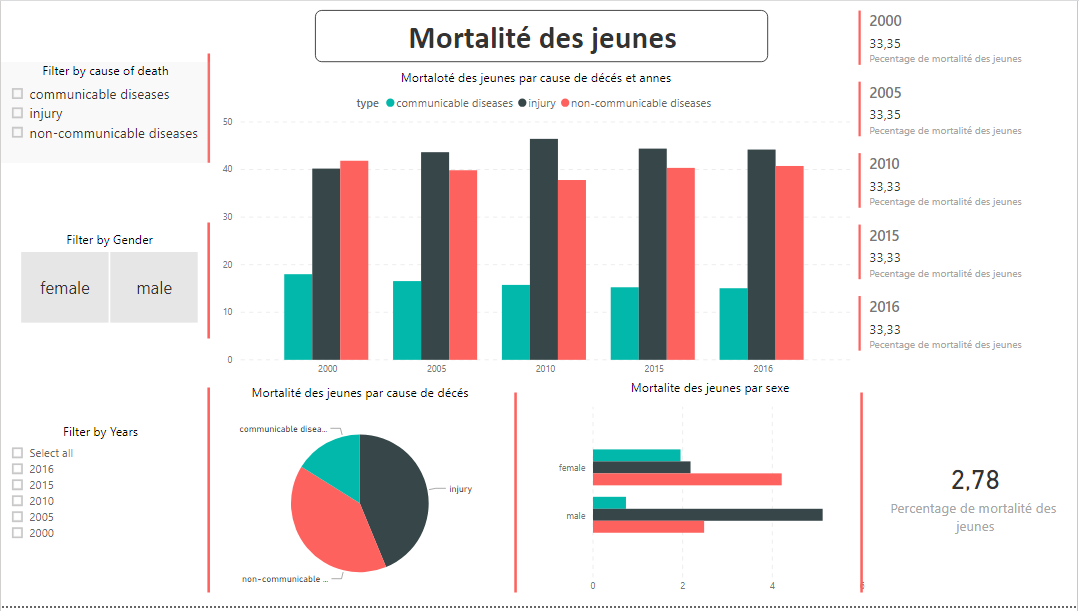

What the dashboard file says about the page in this screenshot:
{"tool":"powerbi","page":{"name":"Mortalité des jeunes","canvas":[1280,720],"ordinal":7},"visuals":[{"type":"basicShape","box":[236.7,52.3,21.4,149.9],"z":0},{"type":"slicer","title":"Filter by cause of death","fields":{"Values":["mydb mortalite.type"]},"box":[0,72.6,248.6,120.1],"z":1000},{"type":"basicShape","box":[235.5,253.4,22.6,158.2],"z":2000},{"type":"slicer","title":"Filter by Gender","fields":{"Values":["mydb gender.type"]},"box":[0,273.6,258.1,114.2],"z":3000},{"type":"basicShape","box":[235.5,449.7,22.6,264.1],"z":4000},{"type":"slicer","title":"Filter by Years","fields":{"Values":["mydb temps.year"]},"box":[0,502,236.7,148.7],"z":5000},{"type":"textbox","box":[373.2,10.5,539.4,62],"z":6000},{"type":"clusteredColumnChart","title":"Mortaloté des jeunes par cause de décés et annes","fields":{"Category":["mydb temps.year"],"Y":["Avg(mydb yoth_mortality.mortalite_ration)"],"Series":["mydb mortalite.type"]},"box":[258.1,80.9,756.6,374.7],"z":7000},{"type":"multiRowCard","fields":{"Values":["mydb temps.year","Avg(mydb yoth_mortality.mortalite_ration)"]},"box":[1014.7,5.9,265.3,449.7],"z":8000},{"type":"pieChart","title":"Mortalité des jeunes par cause de décés","fields":{"Y":["Avg(mydb yoth_mortality.mortalite_ration)"],"Category":["mydb mortalite.type"]},"box":[278.4,455.6,297.4,264.1],"z":9000},{"type":"clusteredBarChart","title":"Mortalite des jeunes par sexe","fields":{"Y":["Avg(mydb yoth_mortality.mortalite_ration)"],"Category":["mydb gender.type"],"Series":["mydb mortalite.type"]},"box":[654.3,449.7,378.3,264.1],"z":10000},{"type":"basicShape","box":[603.1,455.6,17.8,258.1],"z":11000},{"type":"card","fields":{"Values":["Avg(mydb yoth_mortality.mortalite_ration)"]},"box":[1038.5,471.1,241.5,211.7],"z":12000},{"type":"basicShape","box":[1014.7,455.6,17.8,258.1],"z":13000}]}

Visuals, with their boxes in screenshot pixels (x1, y1, x2, y2), scaled from the page's 1280x720 canvas onto the 1079x611 screenshot:
basicShape: l=200, t=44, r=218, b=172
"Filter by cause of death" slicer: l=0, t=62, r=210, b=164
basicShape: l=199, t=215, r=218, b=349
"Filter by Gender" slicer: l=0, t=232, r=218, b=329
basicShape: l=199, t=382, r=218, b=606
"Filter by Years" slicer: l=0, t=426, r=200, b=552
textbox: l=315, t=9, r=769, b=62
"Mortaloté des jeunes par cause de décés et annes" clusteredColumnChart: l=218, t=69, r=855, b=387
multiRowCard - mydb temps.year x Avg(mydb yoth_mortality.mortalite_ration): l=855, t=5, r=1078, b=387
"Mortalité des jeunes par cause de décés" pieChart: l=235, t=387, r=485, b=610
"Mortalite des jeunes par sexe" clusteredBarChart: l=552, t=382, r=870, b=606
basicShape: l=508, t=387, r=523, b=606
card - Avg(mydb yoth_mortality.mortalite_ration): l=875, t=400, r=1078, b=579
basicShape: l=855, t=387, r=870, b=606
